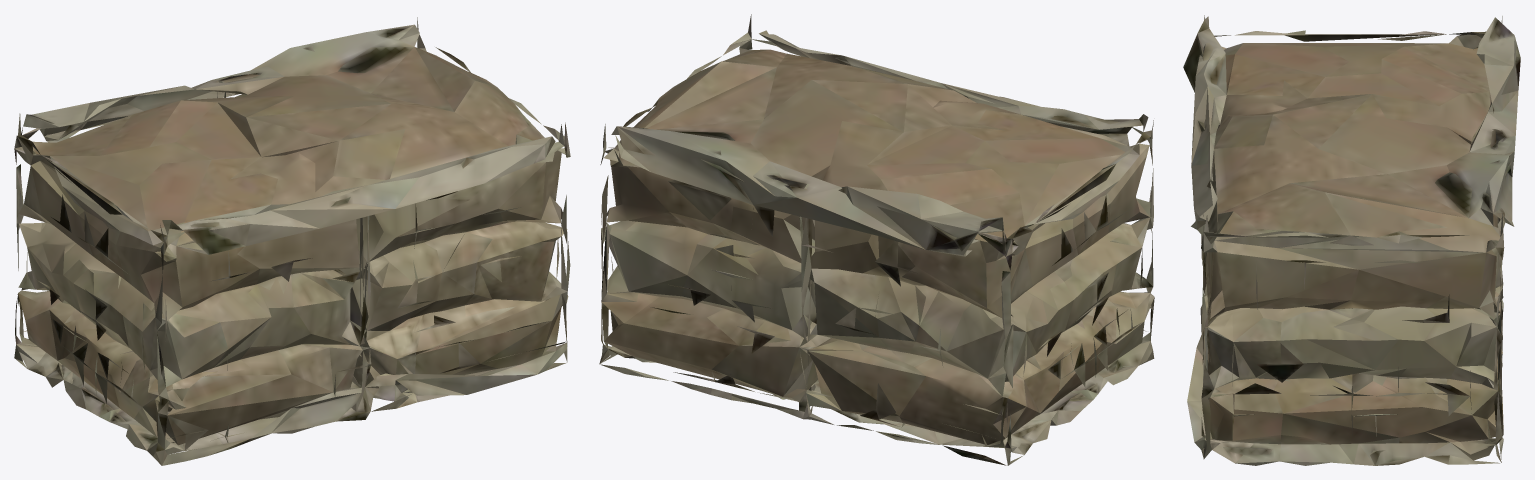
File: hesco.glb
3 views of the same model, side by side, from view 1: azimuth 30°, elevation 25°; view 2: azimuth 150°, elevation 25°; view 3: azimuth 270°, elevation 25° (orthographic).
Visible parts, largest first — view 1: Mesh_0; view 2: Mesh_0; view 3: Mesh_0.
Part boxes in pixels (x1,y1,x2,y2): Mesh_0: (14,17,570,465); Mesh_0: (599,14,1154,465); Mesh_0: (1183,15,1520,465).
Bounding box in the file's own units: 1.89 × 1.1 × 1.3.
1 material, 1 textured.
